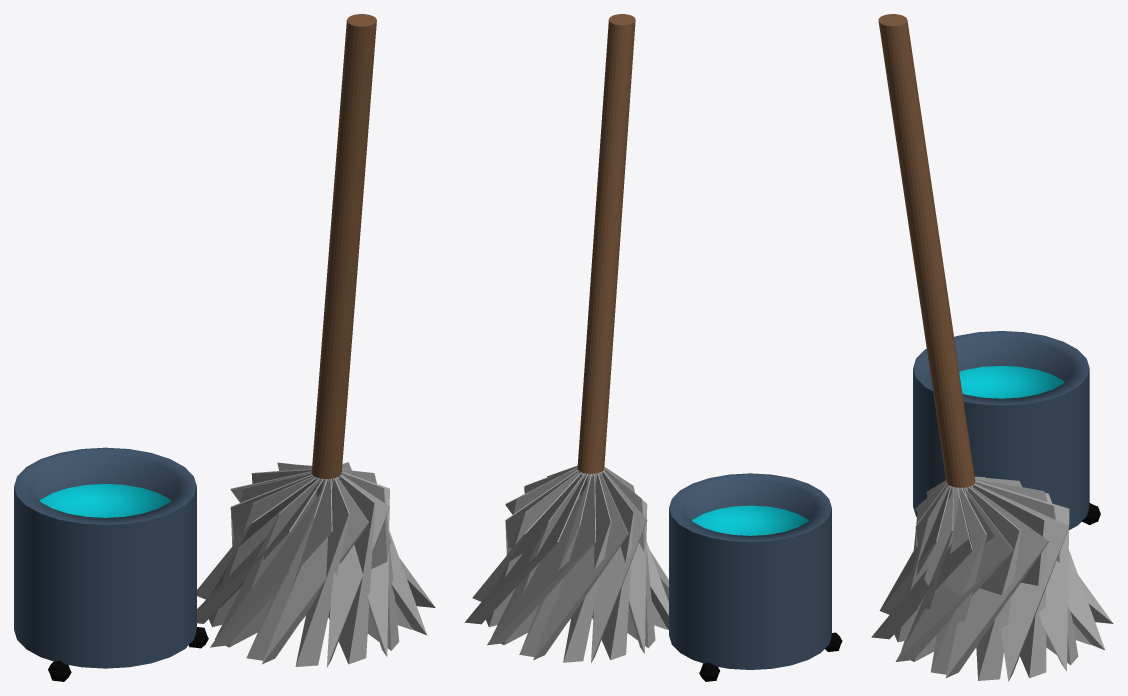
The model's file is MopBucket.fbx.
The picture shows the model from 3 angles, left to right: view 1: azimuth 30°, elevation 25°; view 2: azimuth 150°, elevation 25°; view 3: azimuth 270°, elevation 25°; orthographic projection. The views are drawn at different scales.
Visible parts, largest first — view 1: Cylinder.009; view 2: Cylinder.009; view 3: Cylinder.009.
Boxes of the visible parts, left/top/right/bottom form: Cylinder.009: left=14, top=14, right=435, bottom=681; Cylinder.009: left=464, top=14, right=842, bottom=681; Cylinder.009: left=871, top=14, right=1113, bottom=681.
Size of the model in its own units: 276 by 436 by 155.
